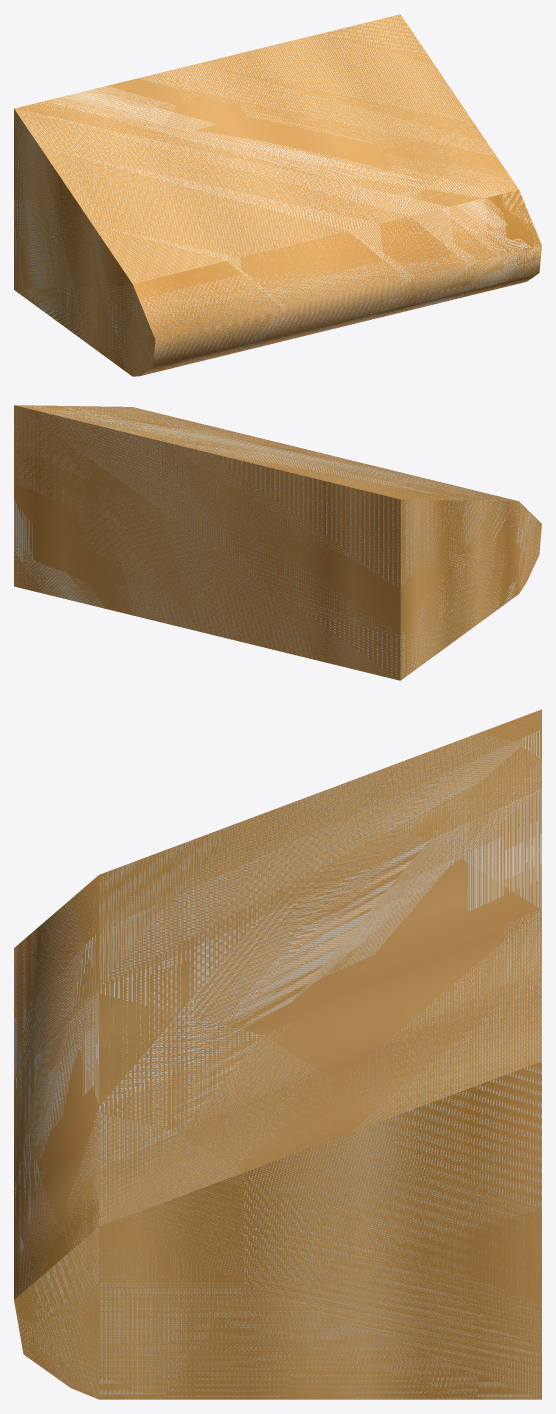
File: original-6.obj
3 renders of one model, top to bottom at view 1: azimuth 30°, elevation 25°; view 2: azimuth 150°, elevation 25°; view 3: azimuth 270°, elevation 25°, orthographic. The views are drawn at different scales.
Parts seen in each view (by area): view 1: mesh5/mesh5-geometry#mesh5-geometry; view 2: mesh5/mesh5-geometry#mesh5-geometry; view 3: mesh5/mesh5-geometry#mesh5-geometry.
Part boxes in pixels (bbox=[...]): mesh5/mesh5-geometry#mesh5-geometry: bbox=[14, 14, 541, 376]; mesh5/mesh5-geometry#mesh5-geometry: bbox=[14, 405, 541, 680]; mesh5/mesh5-geometry#mesh5-geometry: bbox=[14, 709, 541, 1399].
Bounding box in the file's own units: 0.0975 × 0.0437 × 0.0618.
